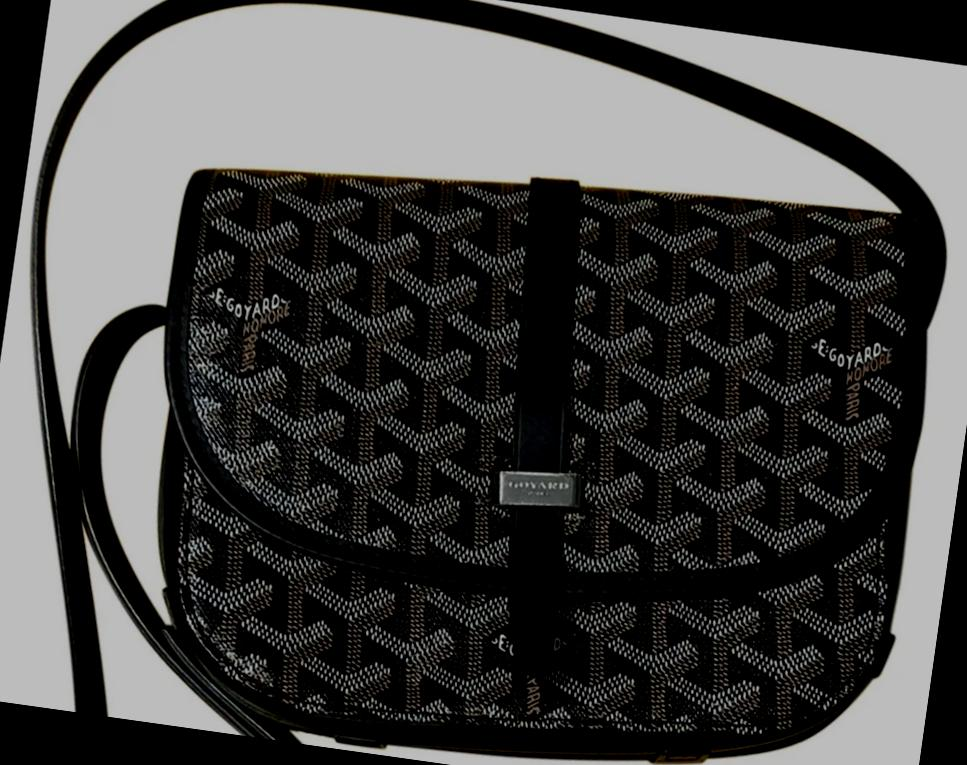GOYARD: (132, 114, 940, 765)
